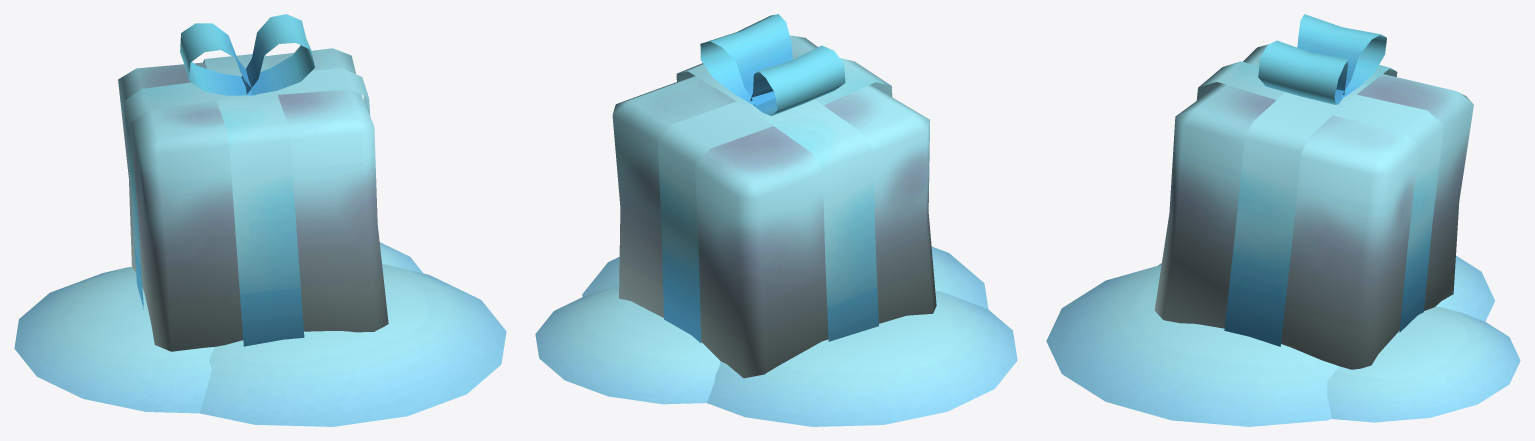
Rendered from FloorDecoXmas-009_02_24_5470.fbx.
3 views of the same model, side by side, from view 1: azimuth 30°, elevation 25°; view 2: azimuth 150°, elevation 25°; view 3: azimuth 270°, elevation 25° (orthographic).
Visible parts, largest first — view 1: xmas_deco_07; view 2: xmas_deco_07; view 3: xmas_deco_07.
Part boxes in pixels (<box>): xmas_deco_07: <box>14,14,506,426</box>; xmas_deco_07: <box>535,14,1017,426</box>; xmas_deco_07: <box>1046,14,1520,426</box>.
Bounding box in the file's own units: 1.47 × 0.9999 × 1.45.
